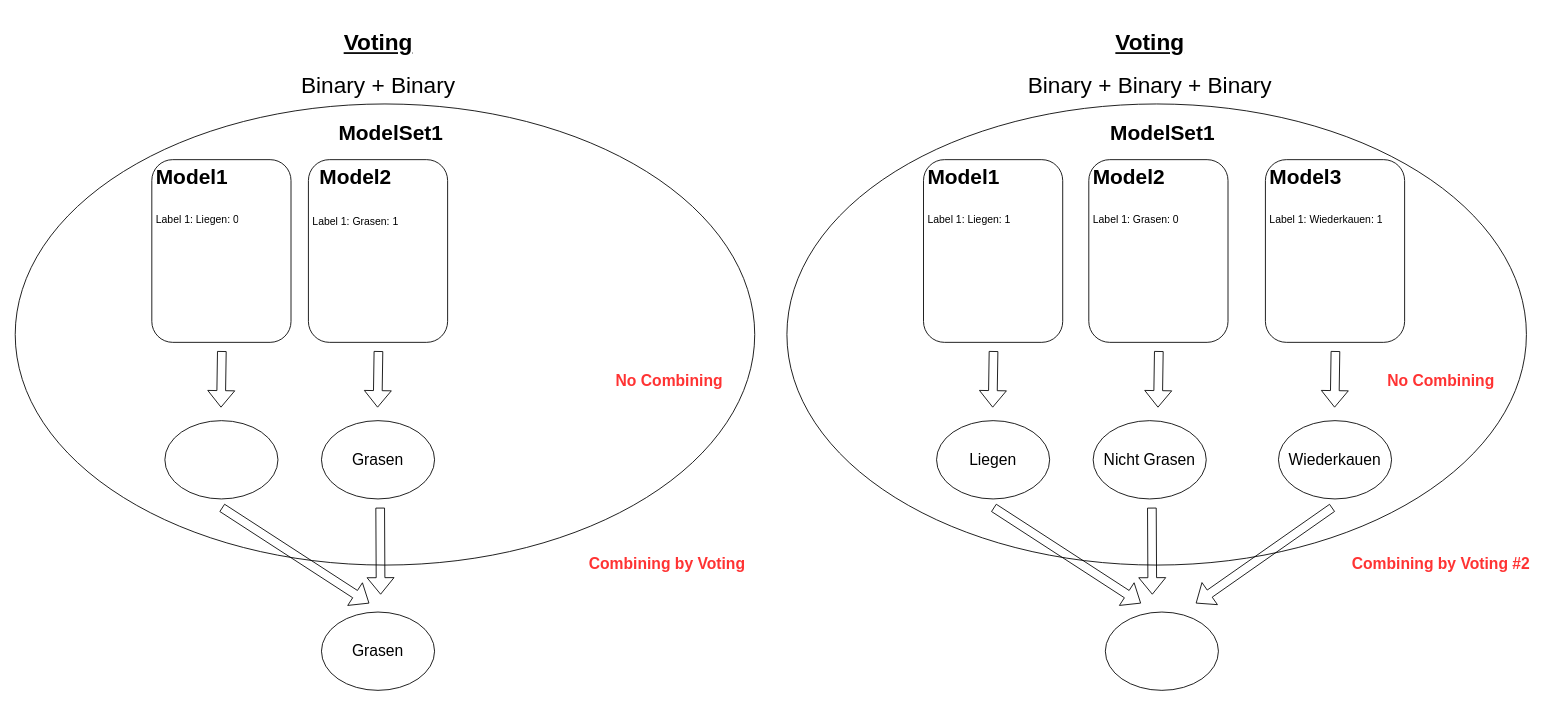
Some shapes in this 1565 by 706 pixel diagram are drawn without their labels. The shapes that lost their labels are listed below. From the top down, each one's centre as x and y in pixels, then its label:
the point at 221,459: Nicht Liegen
the point at 1161,650: Liegen + Wiederkauen
